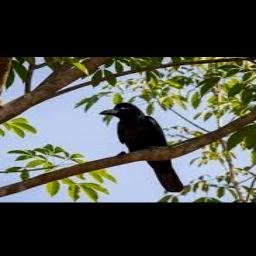Crow: (101, 102, 183, 193)
